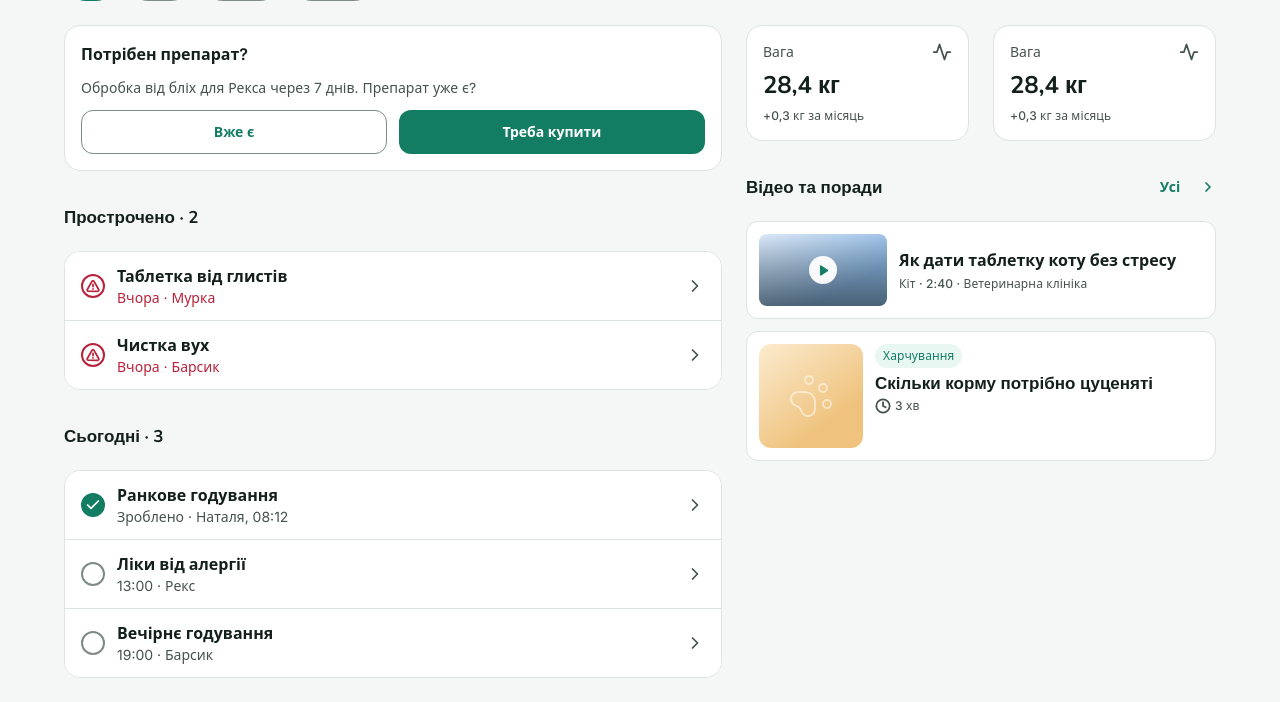
Test: Екран «Сьогодні» › після відмітки події заголовок переходить у режим «Виконано · N з M» (S8)
(page scrolled)
Click the 4th checkbox named "Ліки від алергії": point(93, 574) 71,552 -> 115,596
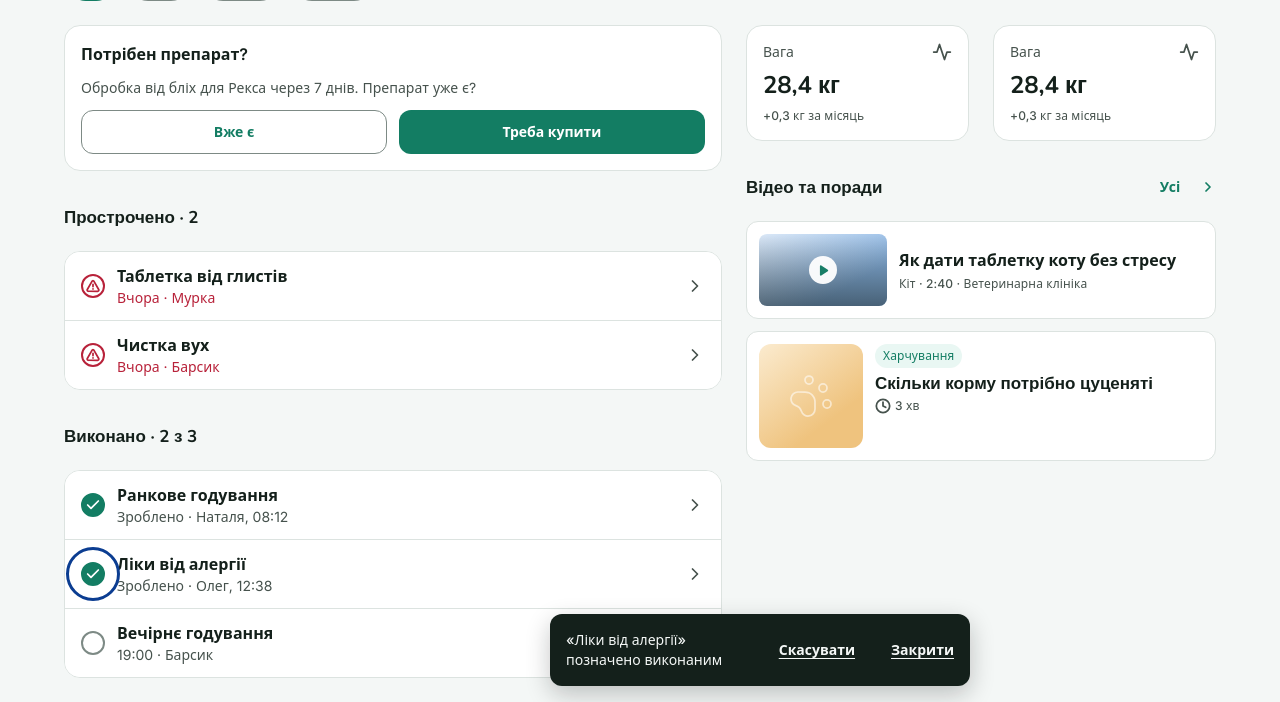
Now the 4th checkbox named "Ліки від алергії" is checked, box 71,552 -> 115,596
Now the heading "Виконано · 2 з 3" is shown, box 64,425 -> 197,448
